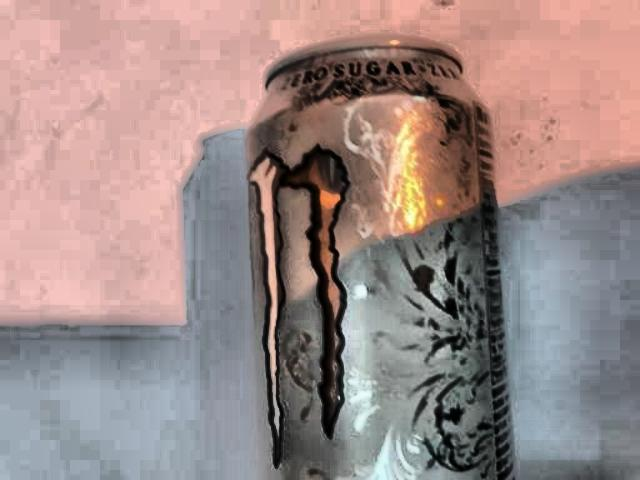Bottles: (215, 24, 570, 480)
